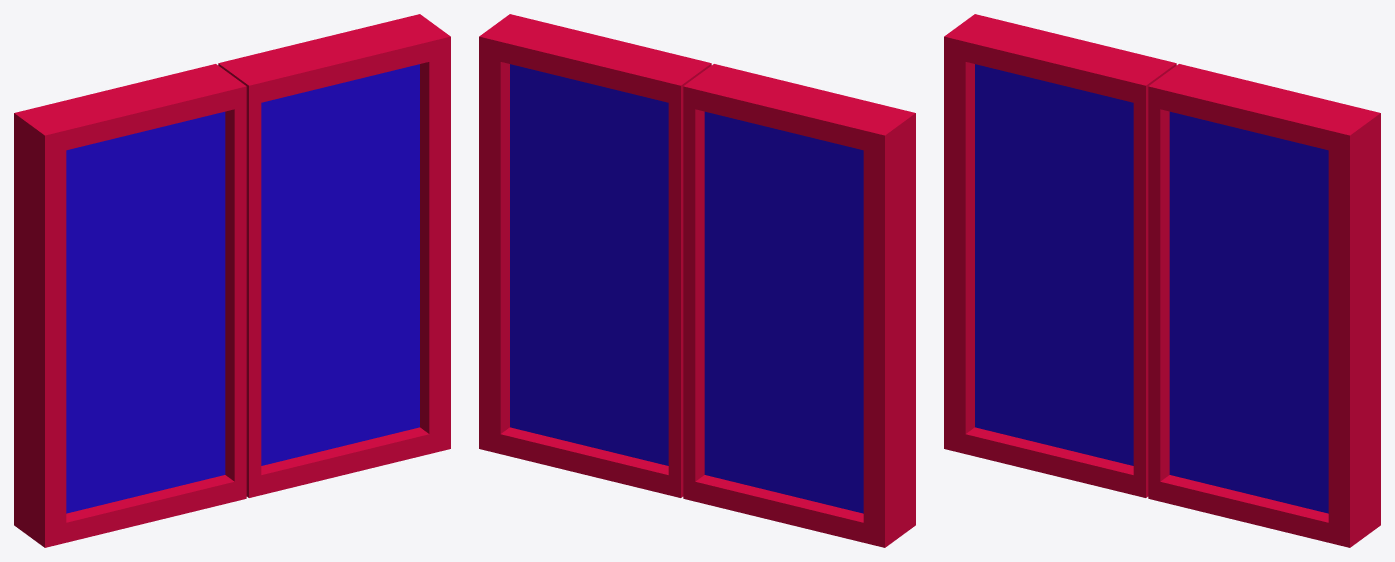
File: porta.fbx
3 views of the same model, side by side, from view 1: azimuth 30°, elevation 25°; view 2: azimuth 150°, elevation 25°; view 3: azimuth 330°, elevation 25° (orthographic).
Parts seen in each view (by area): view 1: Cube.001; view 2: Cube.001; view 3: Cube.001.
Boxes of the visible parts, x1,y1,x2,y2 form: Cube.001: (14, 14, 450, 547); Cube.001: (479, 14, 915, 547); Cube.001: (944, 14, 1380, 547).
Bounding box in the file's own units: 2025 × 1966 × 266.
